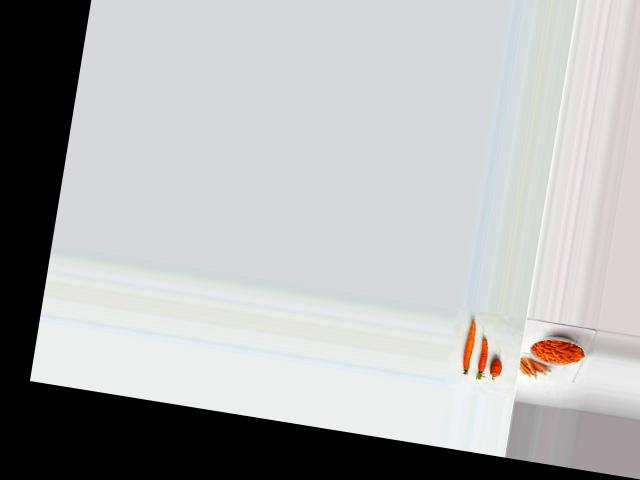carrot: (489, 352, 505, 382)
